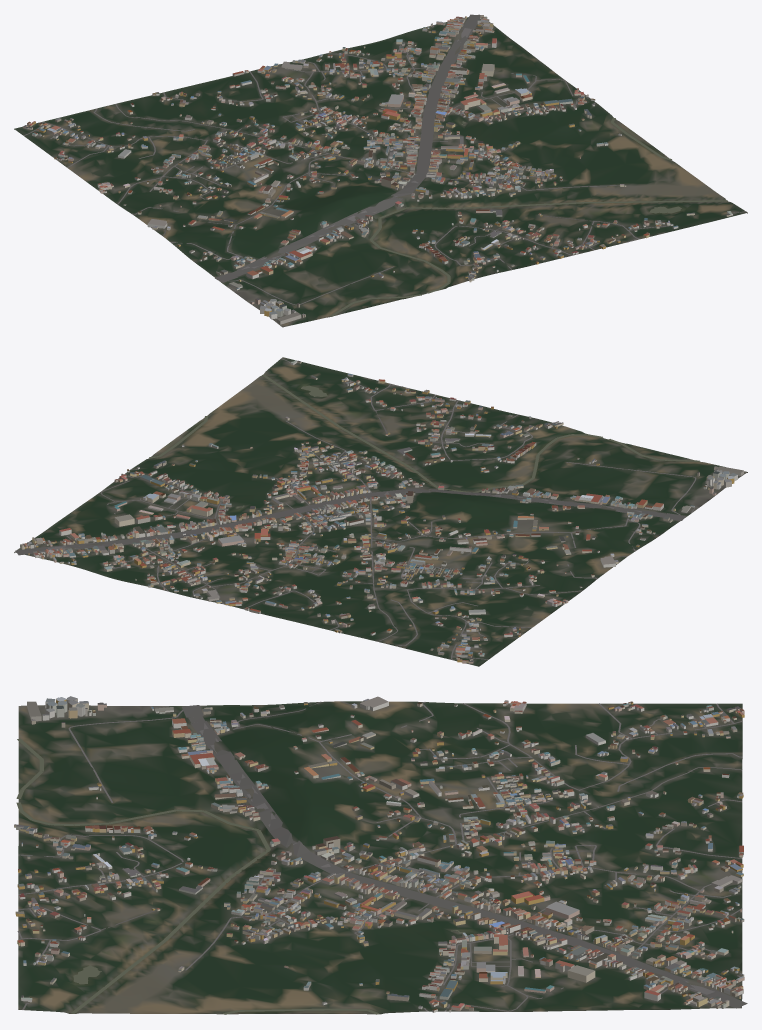
3 views of the same model, one above another, from view 1: azimuth 30°, elevation 25°; view 2: azimuth 150°, elevation 25°; view 3: azimuth 270°, elevation 25° (orthographic). The views are drawn at different scales.
Parts seen in each view (by area): view 1: ground, buildings, roads, water; view 2: ground, buildings, roads, water; view 3: ground, buildings, roads, water.
Boxes of the visible parts, x1,y1,x2,y2 form: ground: [14, 14, 747, 327]; buildings: [23, 15, 732, 324]; roads: [23, 14, 746, 305]; water: [330, 118, 727, 316]; ground: [14, 357, 747, 666]; buildings: [20, 360, 743, 663]; roads: [15, 358, 698, 659]; water: [149, 374, 699, 521]; ground: [18, 701, 742, 1014]; buildings: [14, 696, 744, 1012]; roads: [17, 701, 747, 1011]; water: [16, 738, 463, 1014].
Bounding box in the file's own units: 1417 × 35.84 × 1421.
